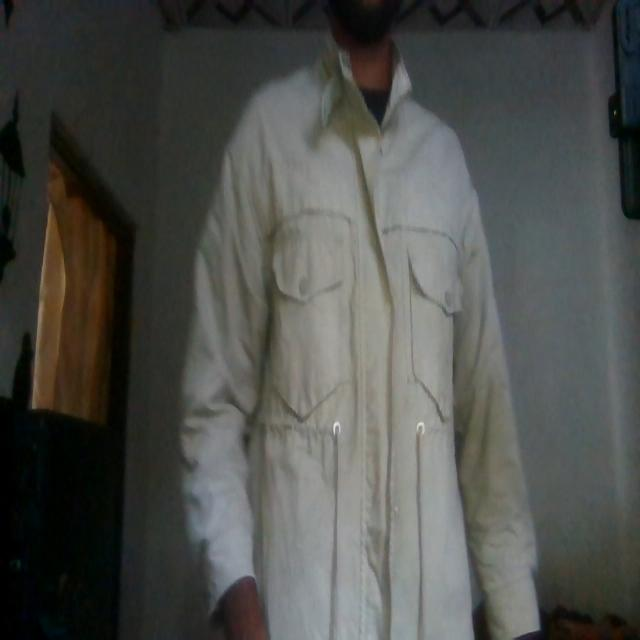Jacket_Wearer: (190, 64, 536, 636)
Person: (193, 0, 536, 640)
